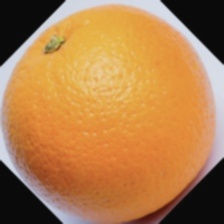orange: (17, 50, 216, 218)
